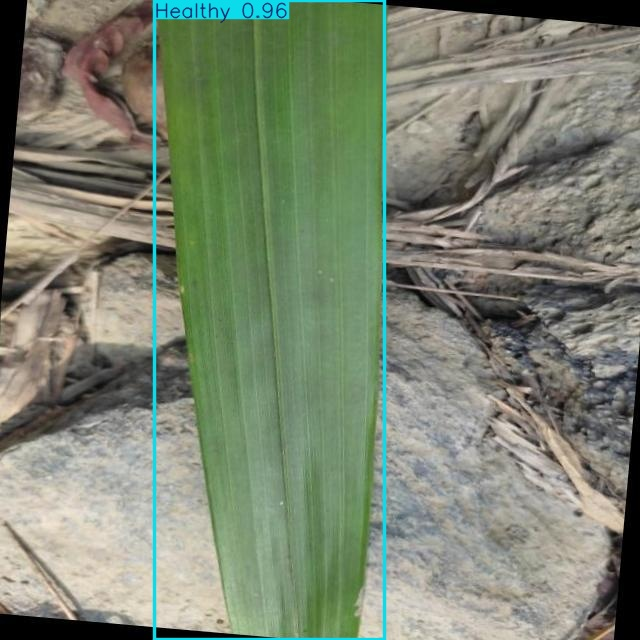Healthy: (155, 0, 384, 640)
